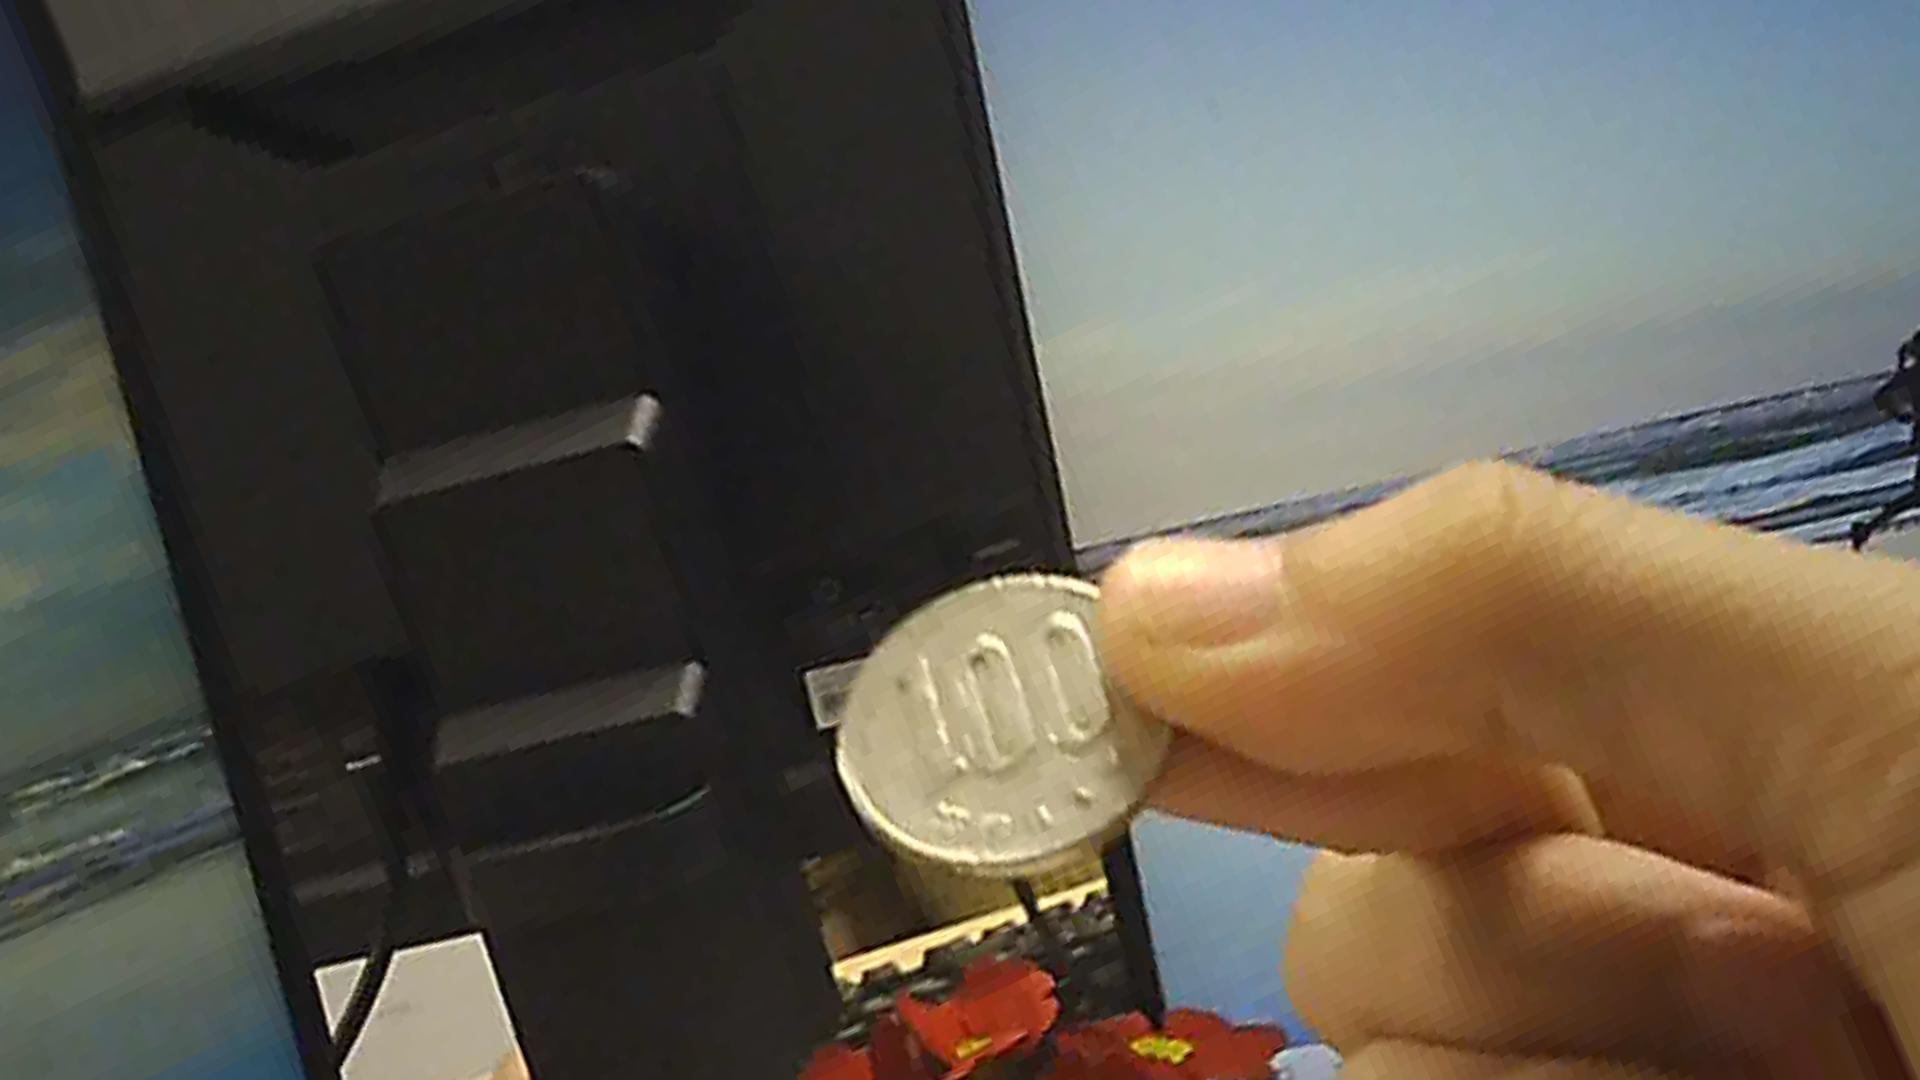100 Yen: (824, 571, 1215, 893)
